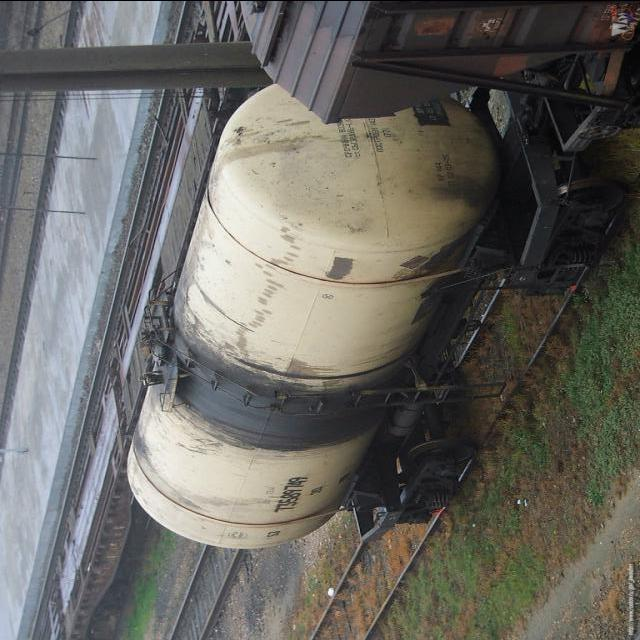wagon: (272, 474, 310, 512)
